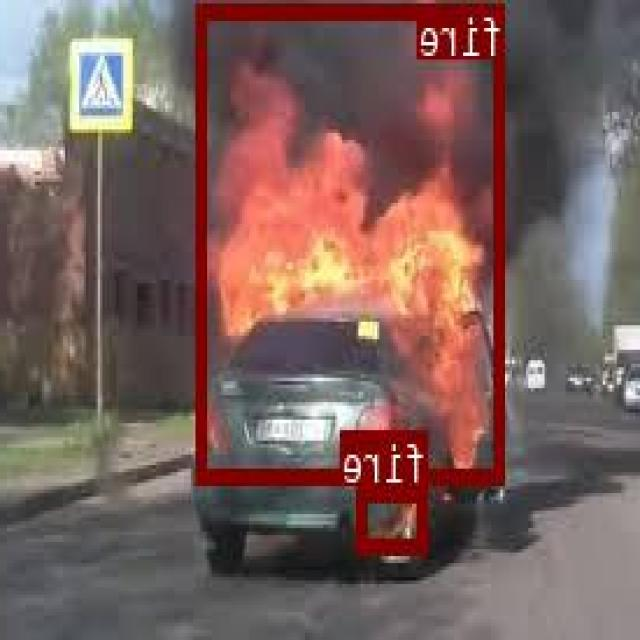fire: (199, 0, 505, 480), (359, 484, 430, 550)
